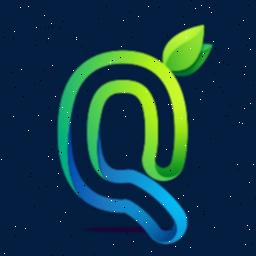q: (54, 48, 192, 248)
